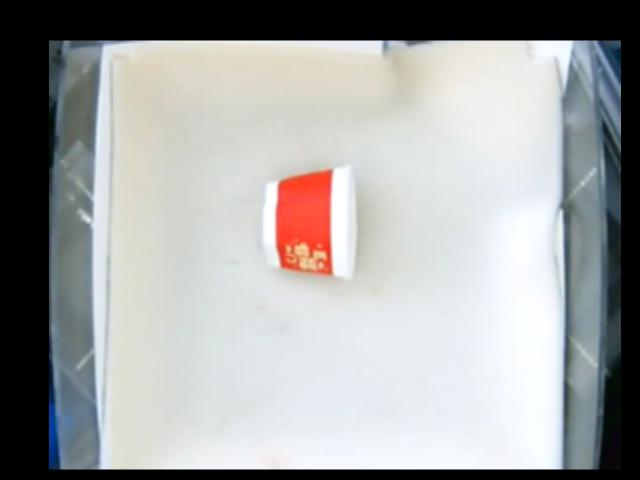Cup: (260, 168, 359, 281)
